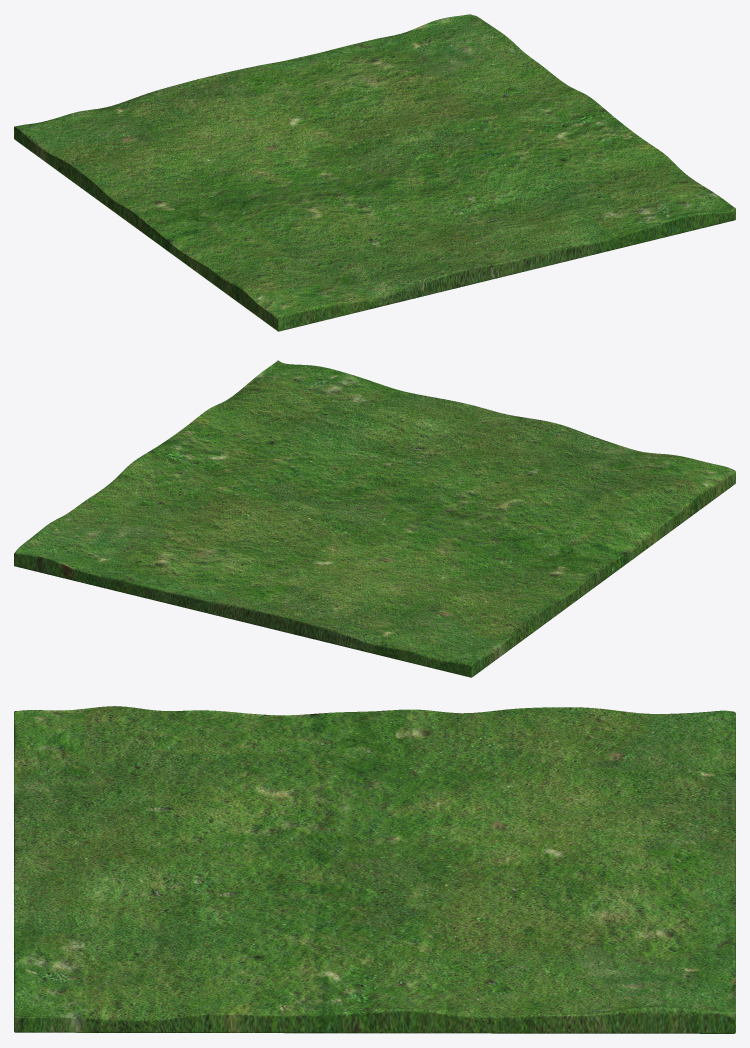
Rendered from grass.glb.
3 renders of one model, top to bottom at view 1: azimuth 30°, elevation 25°; view 2: azimuth 150°, elevation 25°; view 3: azimuth 270°, elevation 25°, orthographic. The views are drawn at different scales.
Visible parts, largest first — view 1: 10450_Rectangular_Grass_Patch_v1_iterations-2; view 2: 10450_Rectangular_Grass_Patch_v1_iterations-2; view 3: 10450_Rectangular_Grass_Patch_v1_iterations-2.
Part boxes in pixels (x1,y1,x2,y2): 10450_Rectangular_Grass_Patch_v1_iterations-2: (14, 14, 735, 331); 10450_Rectangular_Grass_Patch_v1_iterations-2: (14, 360, 735, 677); 10450_Rectangular_Grass_Patch_v1_iterations-2: (14, 706, 735, 1033).
Size of the model in its own units: 300 by 12.24 by 300.
Materials: 1 (1 with a texture image).
